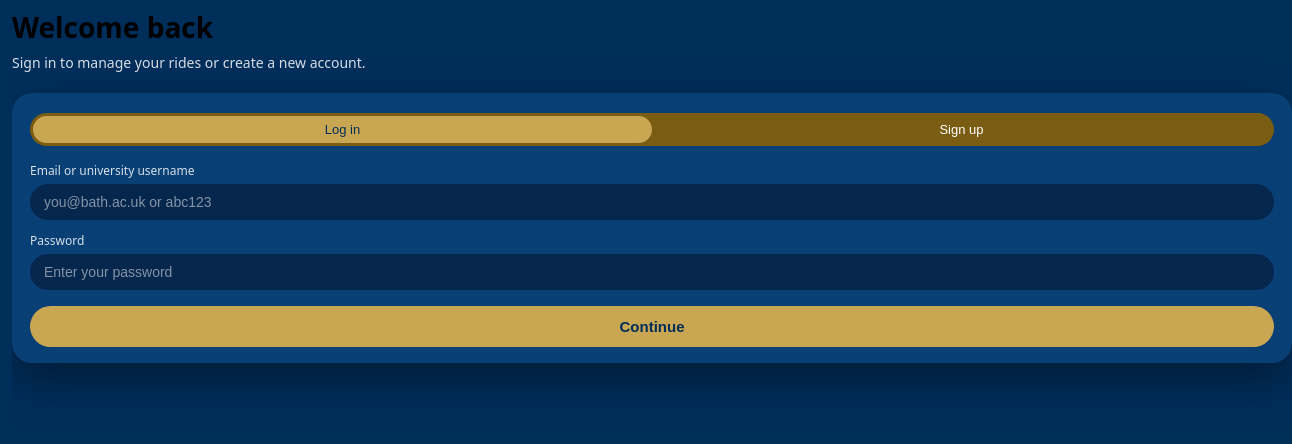
LoginPage Component › displays an error message on failed login
Type "wrong@bath.ac.uk" into the field labelled "Email or university username" at [652, 202], box [30,184,1274,220]
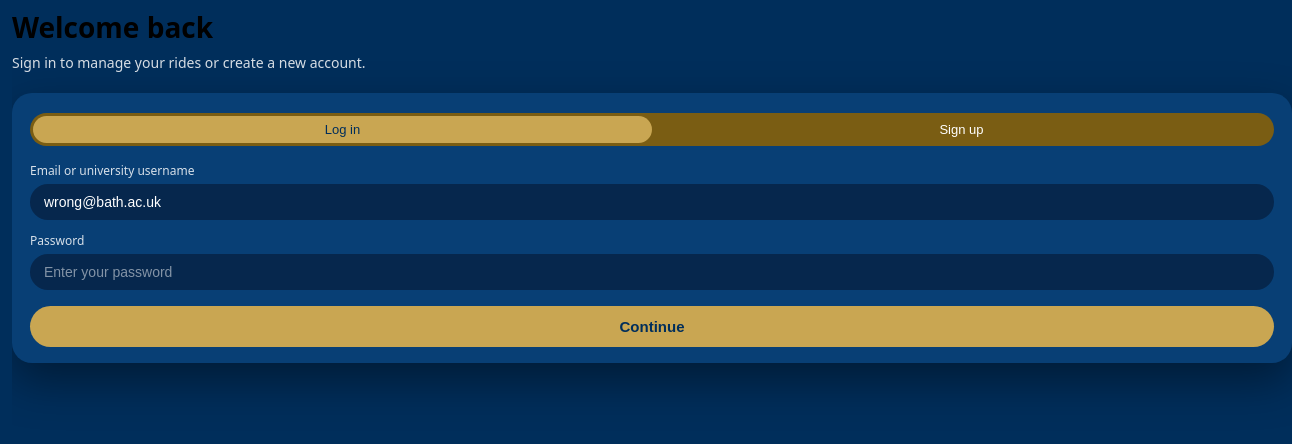
Type "wrongpass" into the password field labelled "Password" at [652, 272], box [30,254,1274,290]
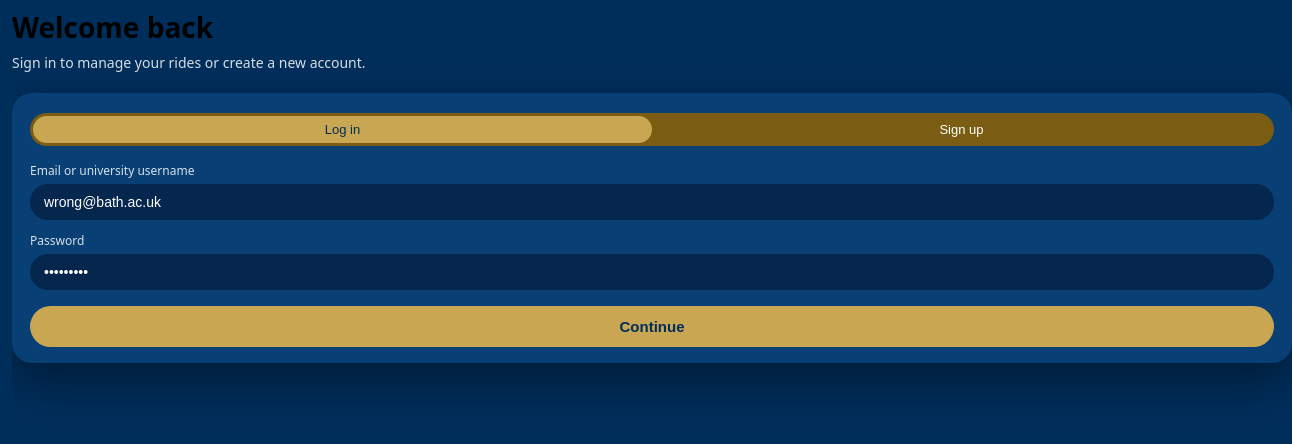
Click the button "Continue" at [652, 326], box [30,306,1274,347]
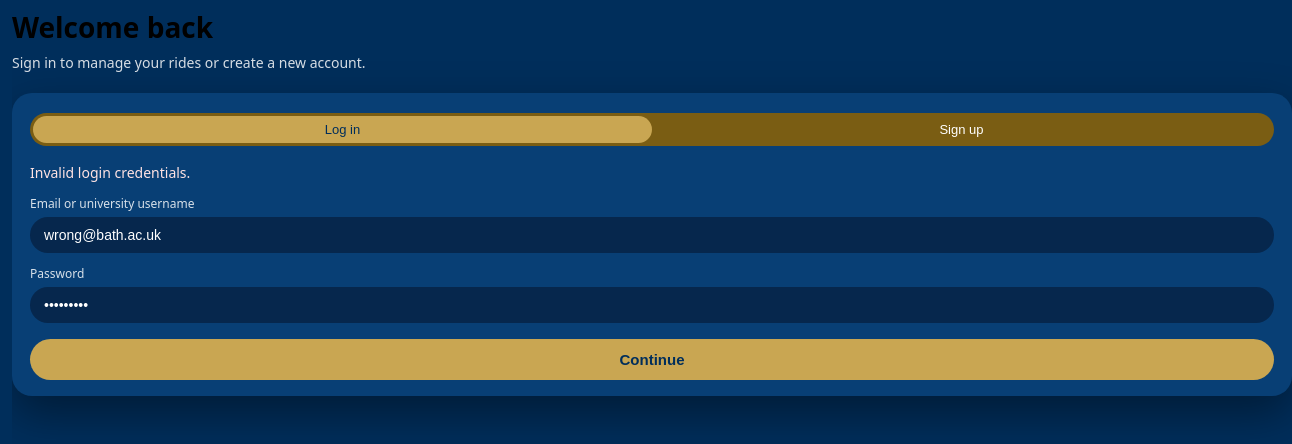
Now the text "Invalid login credentials." is shown, box [30,163,190,182]
